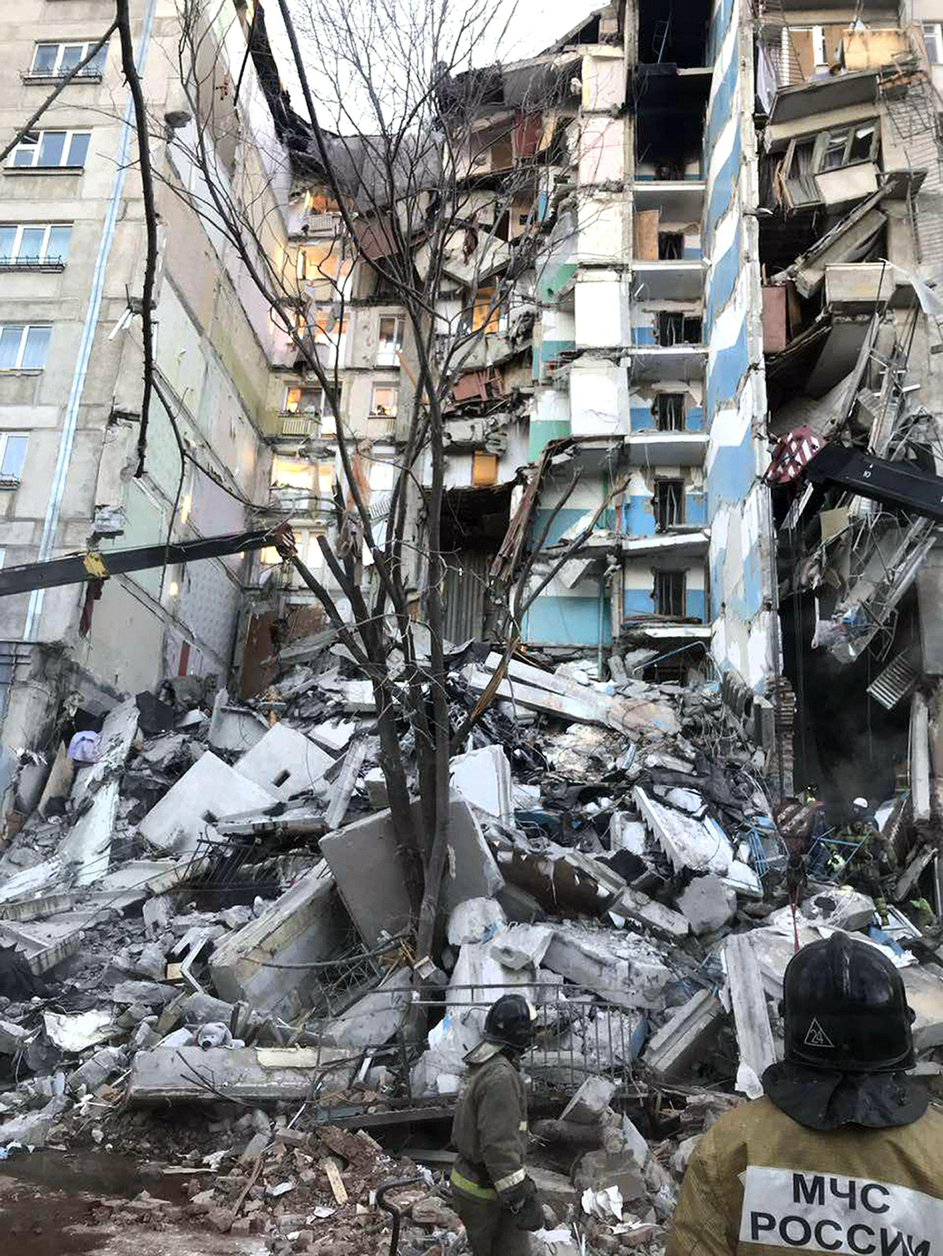victim: (439, 995, 579, 1254)
